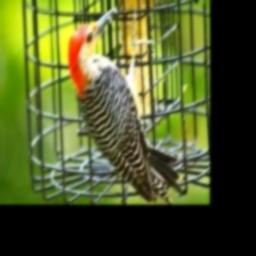Woodpecker: (68, 6, 180, 203)
